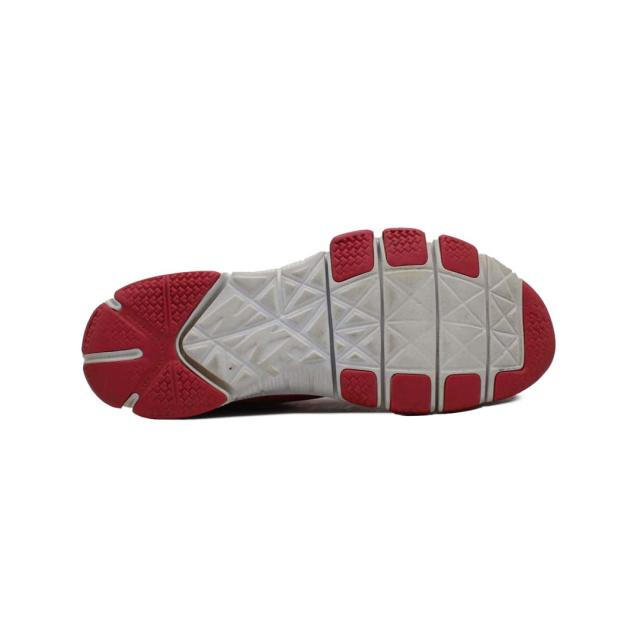outersole: (81, 226, 556, 420)
